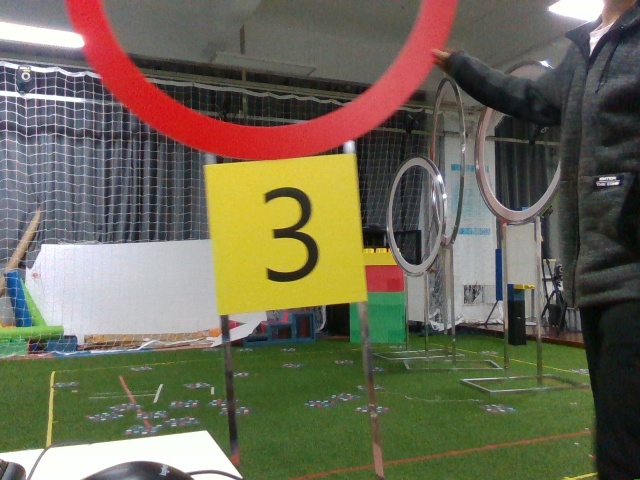target: (211, 168, 362, 305)
